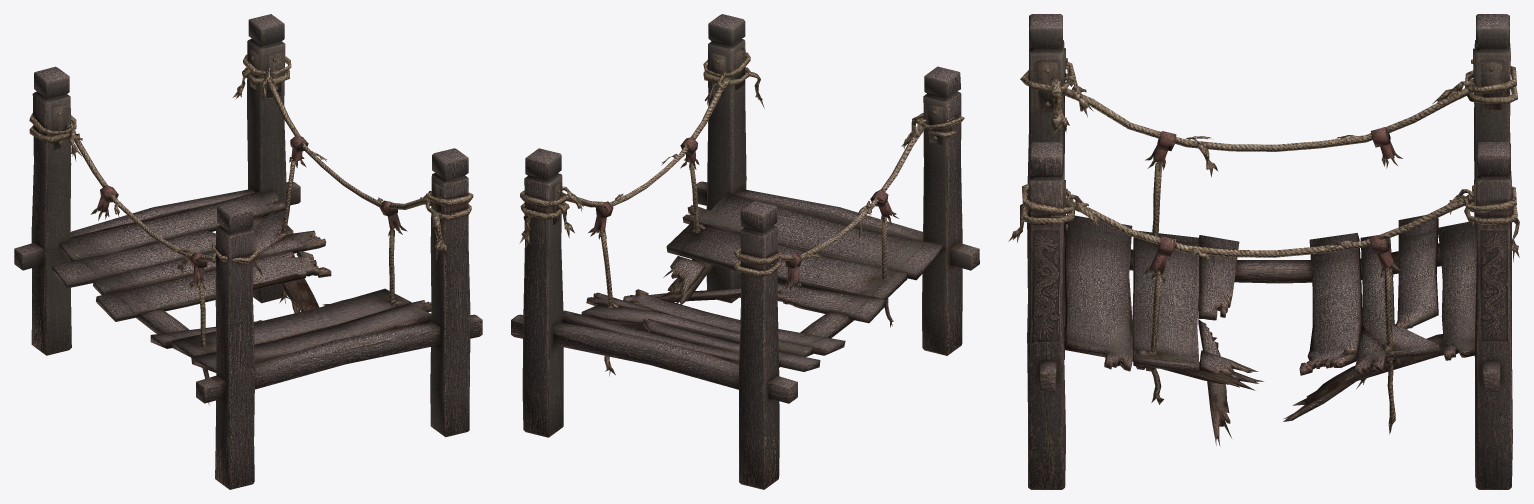
File: tripo_convert_f631b98d-9b63-44c0-92e1-03aa9a49b605.fbx
The picture shows the model from 3 angles, left to right: view 1: azimuth 30°, elevation 25°; view 2: azimuth 150°, elevation 25°; view 3: azimuth 270°, elevation 25°; orthographic projection. The views are drawn at different scales.
Parts seen in each view (by area): view 1: tripo_node_f631b98d; view 2: tripo_node_f631b98d; view 3: tripo_node_f631b98d.
Boxes of the visible parts, x1,y1,x2,y2 form: tripo_node_f631b98d: [14, 14, 482, 489]; tripo_node_f631b98d: [511, 14, 979, 489]; tripo_node_f631b98d: [1008, 14, 1519, 489].
Bounding box in the file's own units: 0.7676 × 0.7207 × 0.998.
1 material, 1 textured.
